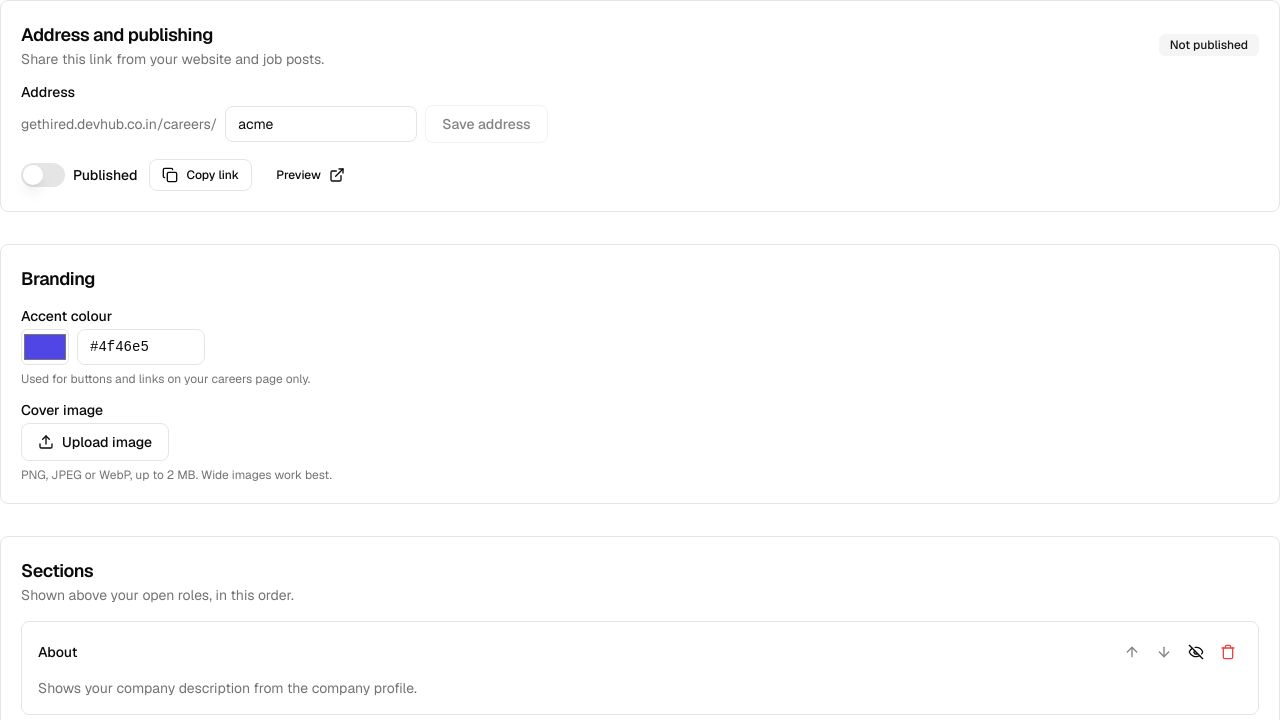
Test: CareersEditor (CP-REQ-012, CPT-052) › shows why an address is invalid
The width and height of the screenshot is (1280, 720).
Replace the text in the field labelled "Address" with "jobs" at (321,124), box [225,106,417,142]
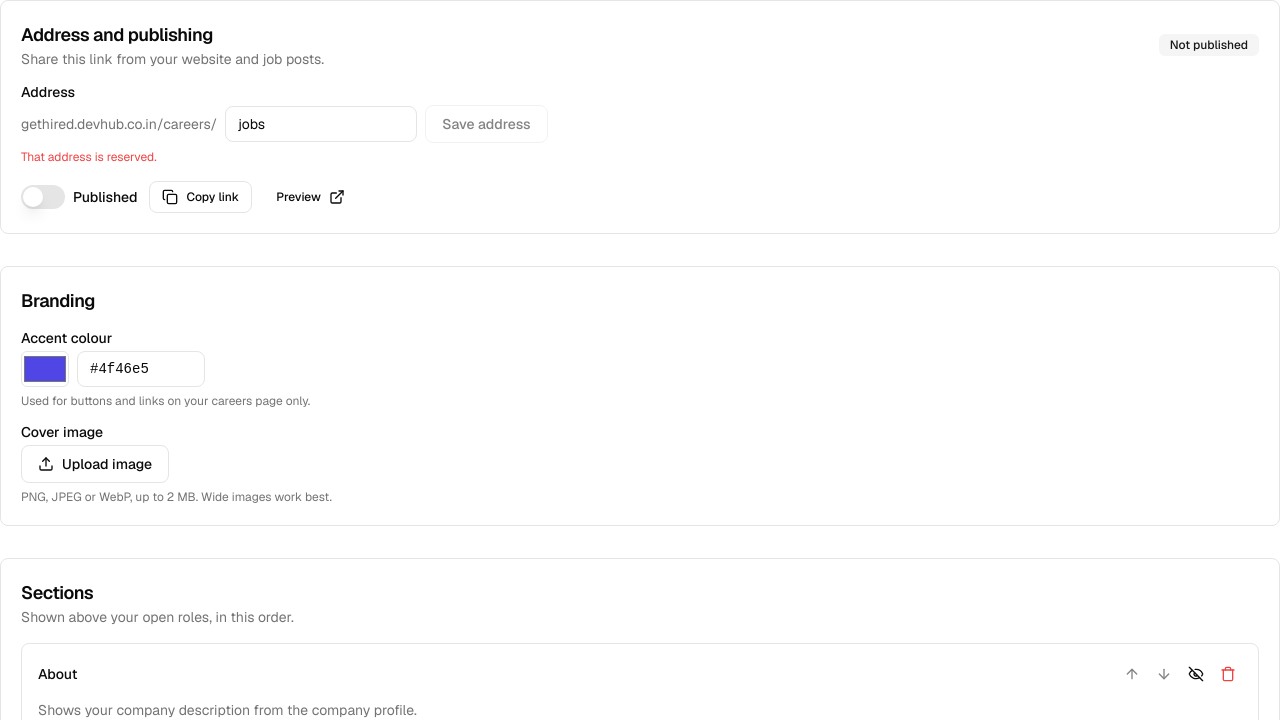
Expected: the button "Save address" is disabled, [425,105,548,143]
Expected: the text "That address is reserved." is shown, [21,149,157,165]
